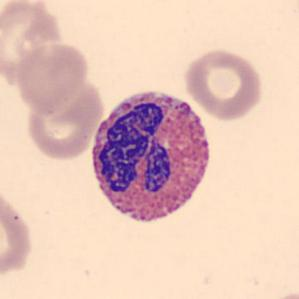Eosinophil: (85, 80, 218, 234)
RBC: (182, 46, 266, 122), (22, 84, 104, 161), (12, 41, 90, 115), (0, 0, 65, 85), (0, 183, 36, 283)
